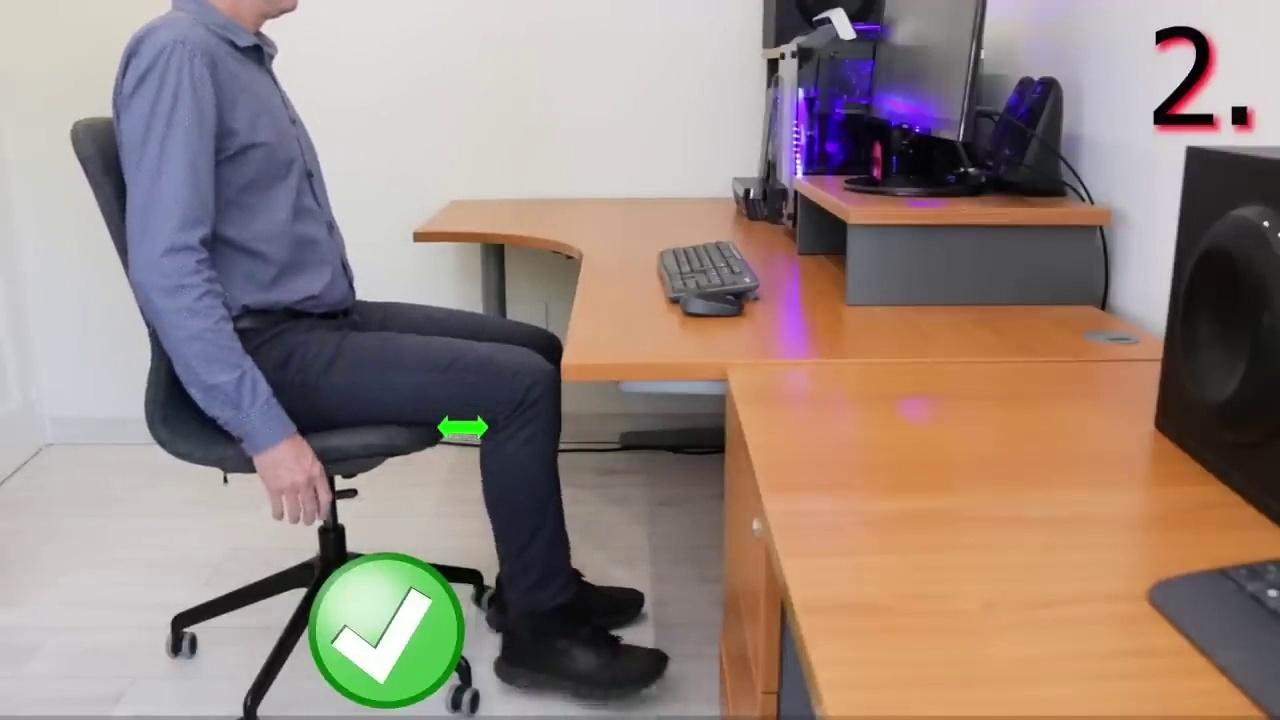GoodPosture: (113, 13, 666, 694)
